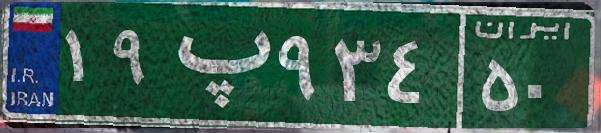0: (525, 38, 570, 115)
1: (57, 26, 110, 107)
3: (330, 28, 385, 110)
4: (385, 28, 445, 110)
5: (475, 38, 525, 113)
9: (273, 28, 330, 110), (110, 28, 158, 105)
پ: (158, 15, 273, 115)
